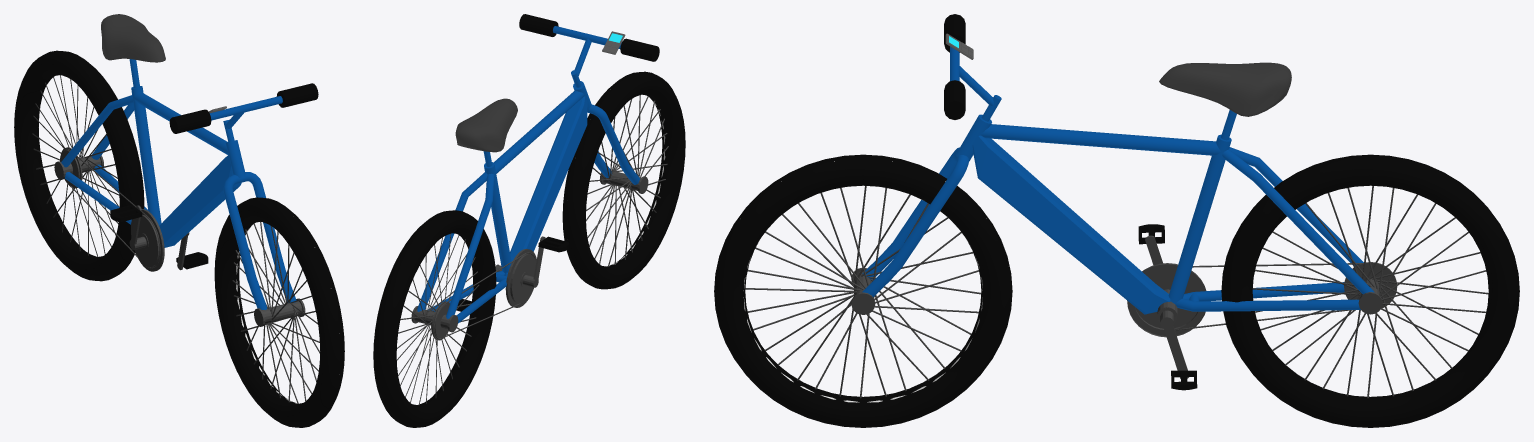
Rendered from bike_v8_test.glb.
3 renders of one model, left to right at view 1: azimuth 30°, elevation 25°; view 2: azimuth 150°, elevation 25°; view 3: azimuth 270°, elevation 25°, orthographic. The views are drawn at different scales.
Visible parts, largest first — view 1: Torus.001, Torus.002, Spoke_1, Battery, Fort_Seat_stay, Top_Seat_tube, Saddle, Spoke_2, Fort_Seat_stay.001, Handles, Bottom_bracket, Hub_front (+7 smaller); view 2: Torus.001, Torus.002, Battery, Fort_Seat_stay.001, Spoke_1, Top_Seat_tube, Spoke_2, Saddle, Handles, Bottom_bracket, Fort_Seat_stay, Hub_back (+7 smaller); view 3: Torus.001, Torus.002, Battery, Spoke_1, Fort_Seat_stay.001, Spoke_2, Top_Seat_tube, Saddle, Fort_Seat_stay, Bottom_bracket, Handles, Cassette (+1 smaller).
Boxes of the visible parts, bbox=[...] form: Torus.001: bbox=[214, 197, 344, 427]; Torus.002: bbox=[14, 50, 144, 281]; Spoke_1: bbox=[232, 221, 319, 403]; Battery: bbox=[159, 155, 241, 247]; Fort_Seat_stay: bbox=[223, 172, 296, 309]; Top_Seat_tube: bbox=[131, 86, 228, 225]; Saddle: bbox=[101, 14, 165, 62]; Spoke_2: bbox=[32, 75, 119, 256]; Fort_Seat_stay.001: bbox=[61, 95, 148, 224]; Handles: bbox=[169, 83, 318, 133]; Bottom_bracket: bbox=[131, 209, 164, 271]; Hub_front: bbox=[254, 298, 305, 326]; Torus.001: bbox=[562, 71, 685, 289]; Torus.002: bbox=[373, 210, 496, 427]; Battery: bbox=[510, 96, 587, 261]; Fort_Seat_stay.001: bbox=[417, 172, 507, 323]; Spoke_1: bbox=[586, 95, 668, 266]; Top_Seat_tube: bbox=[484, 90, 584, 273]; Spoke_2: bbox=[397, 233, 479, 404]; Saddle: bbox=[455, 98, 517, 152]; Handles: bbox=[519, 14, 659, 61]; Bottom_bracket: bbox=[505, 249, 536, 307]; Fort_Seat_stay: bbox=[587, 104, 639, 184]; Hub_back: bbox=[411, 306, 458, 332]; Torus.001: bbox=[714, 154, 1012, 427]; Torus.002: bbox=[1221, 154, 1519, 427]; Battery: bbox=[972, 135, 1170, 314]; Spoke_1: bbox=[745, 186, 981, 398]; Fort_Seat_stay.001: bbox=[1175, 147, 1374, 311]; Spoke_2: bbox=[1252, 186, 1488, 398]; Top_Seat_tube: bbox=[981, 124, 1231, 304]; Saddle: bbox=[1159, 62, 1291, 116]; Fort_Seat_stay: bbox=[862, 147, 968, 297]; Bottom_bracket: bbox=[1127, 263, 1206, 337]; Handles: bbox=[944, 14, 965, 119]; Cassette: bbox=[1344, 262, 1397, 308].
Bounding box in the file's own units: 1.18 × 2.37 × 4.64.
